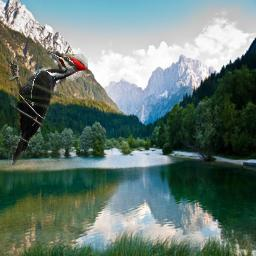Woodpecker: (8, 51, 88, 165)
